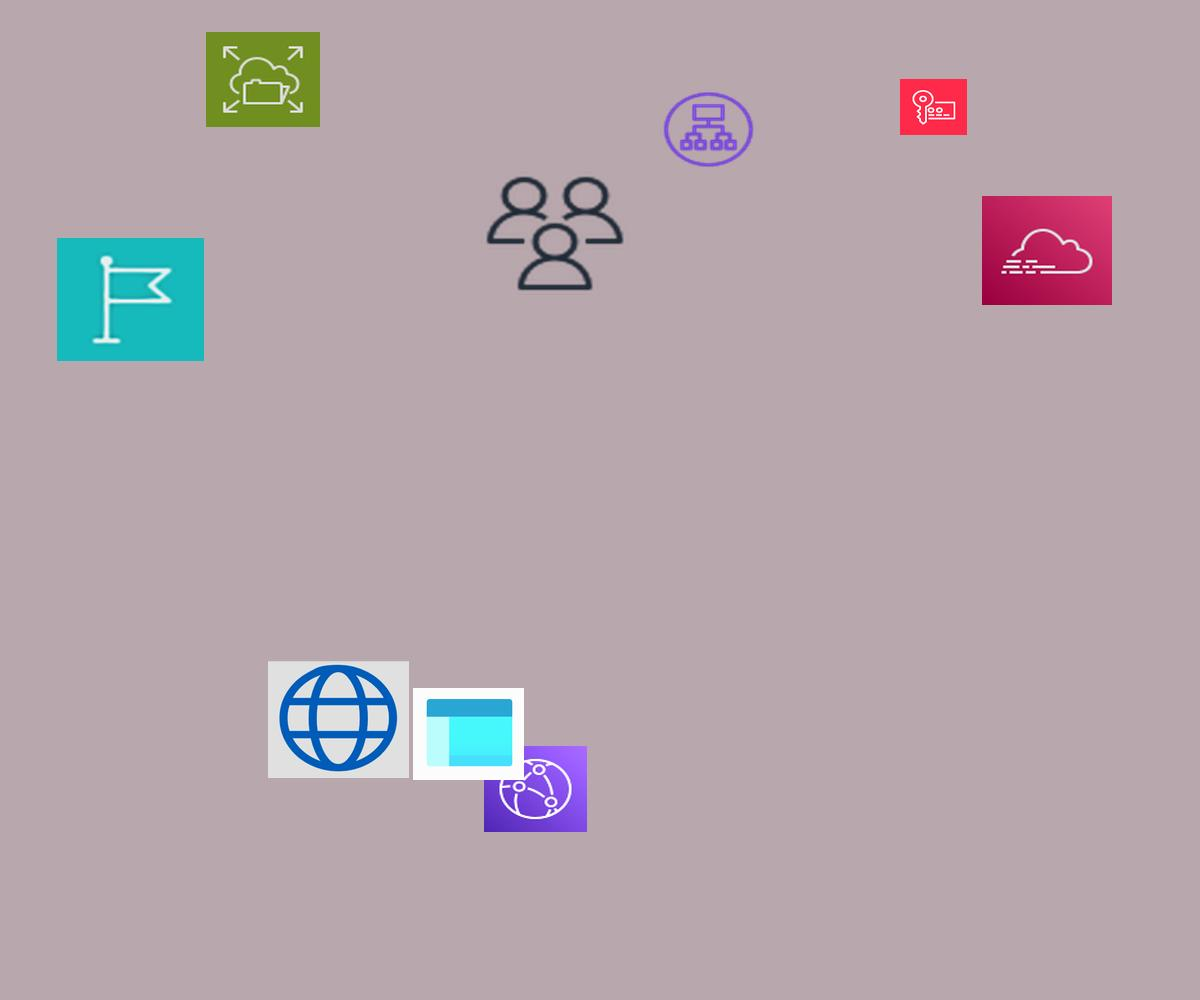AWS-CloudFront: (484, 746, 587, 832)
AWS-CloudTrail: (982, 196, 1112, 305)
AWS-EFS: (206, 32, 320, 127)
AWS-Key-Management-Service: (900, 79, 967, 135)
AWS-Region: (57, 238, 204, 361)
AWS-Res_Elastic-Load-Balancing_Application-Load-Balancer: (660, 89, 757, 170)
AWS-Res_Users: (481, 172, 629, 295)
Azure_http: (268, 661, 409, 778)
Azure_management-portal: (413, 688, 524, 780)
